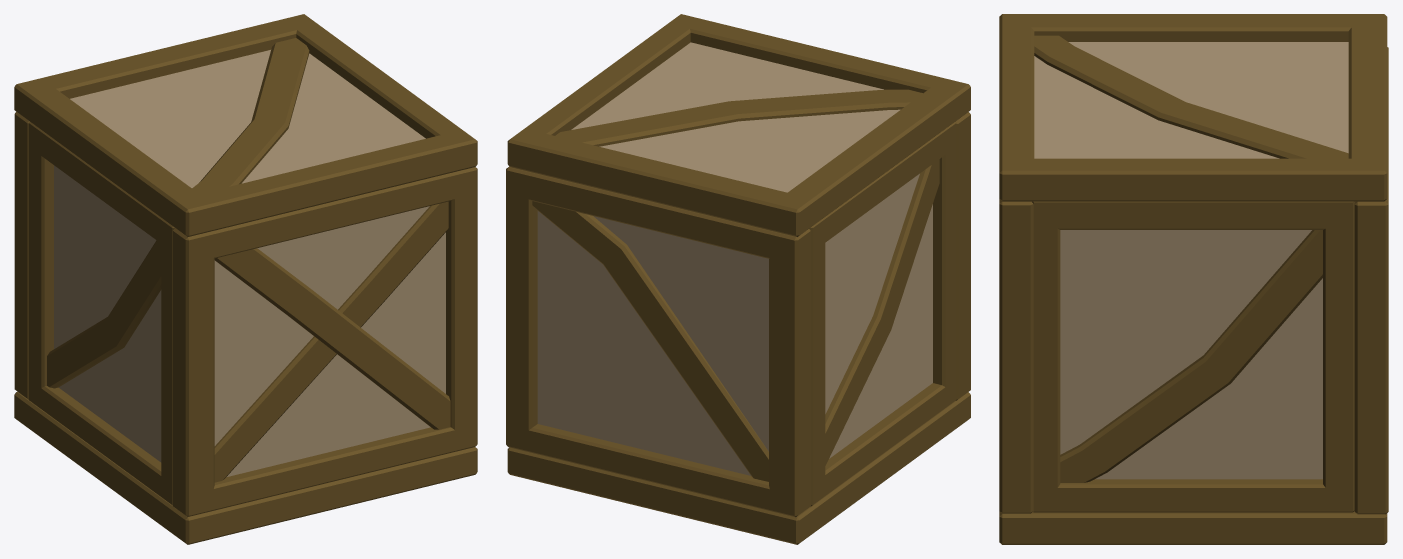
File: SM_Crate_Placeholder.fbx
3 views of the same model, side by side, from view 1: azimuth 30°, elevation 25°; view 2: azimuth 150°, elevation 25°; view 3: azimuth 270°, elevation 25° (orthographic). The views are drawn at different scales.
Parts seen in each view (by area): view 1: SM_Crate_Placeholder; view 2: SM_Crate_Placeholder; view 3: SM_Crate_Placeholder.
Boxes of the visible parts, x1,y1,x2,y2 form: SM_Crate_Placeholder: (14,14,477,544); SM_Crate_Placeholder: (506,14,970,544); SM_Crate_Placeholder: (999,14,1388,544).
Bounding box in the file's own units: 321 × 351 × 331.
